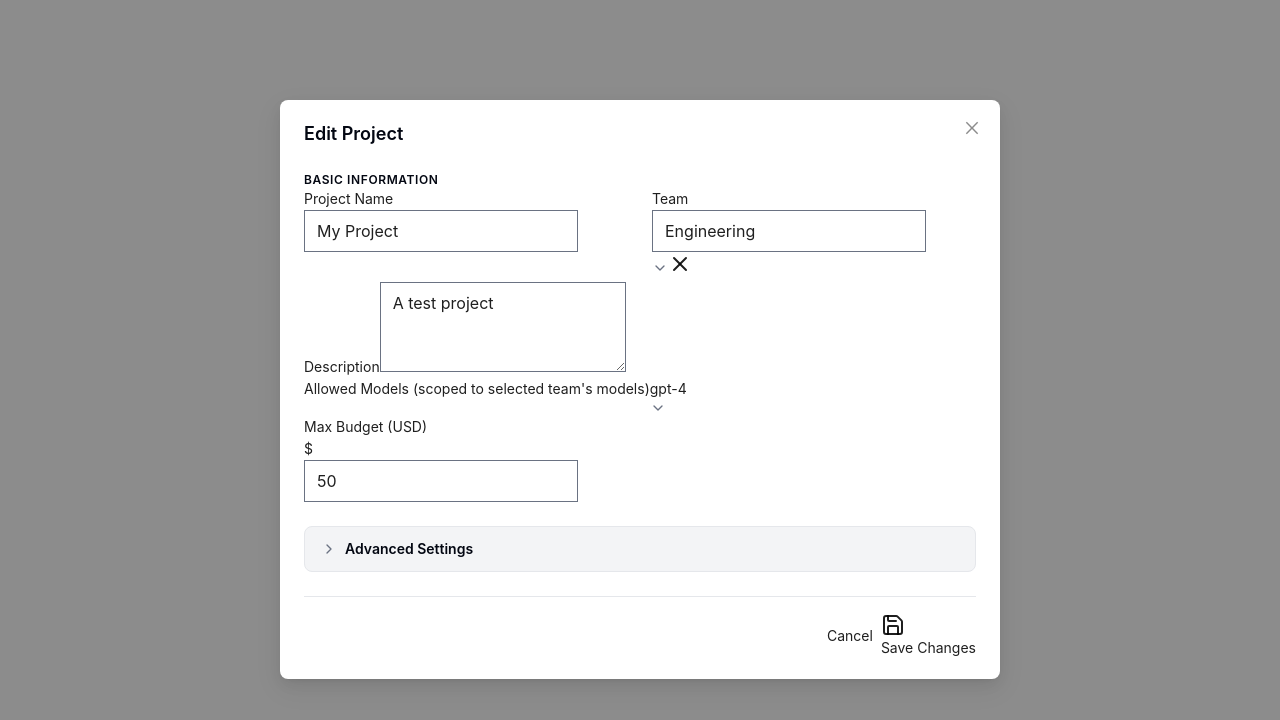
Test: EditProjectModal submit payload › blocks the save when the project name is cleared
Clear the field labelled "Project Name" at (441, 231), box [304,210,578,252]
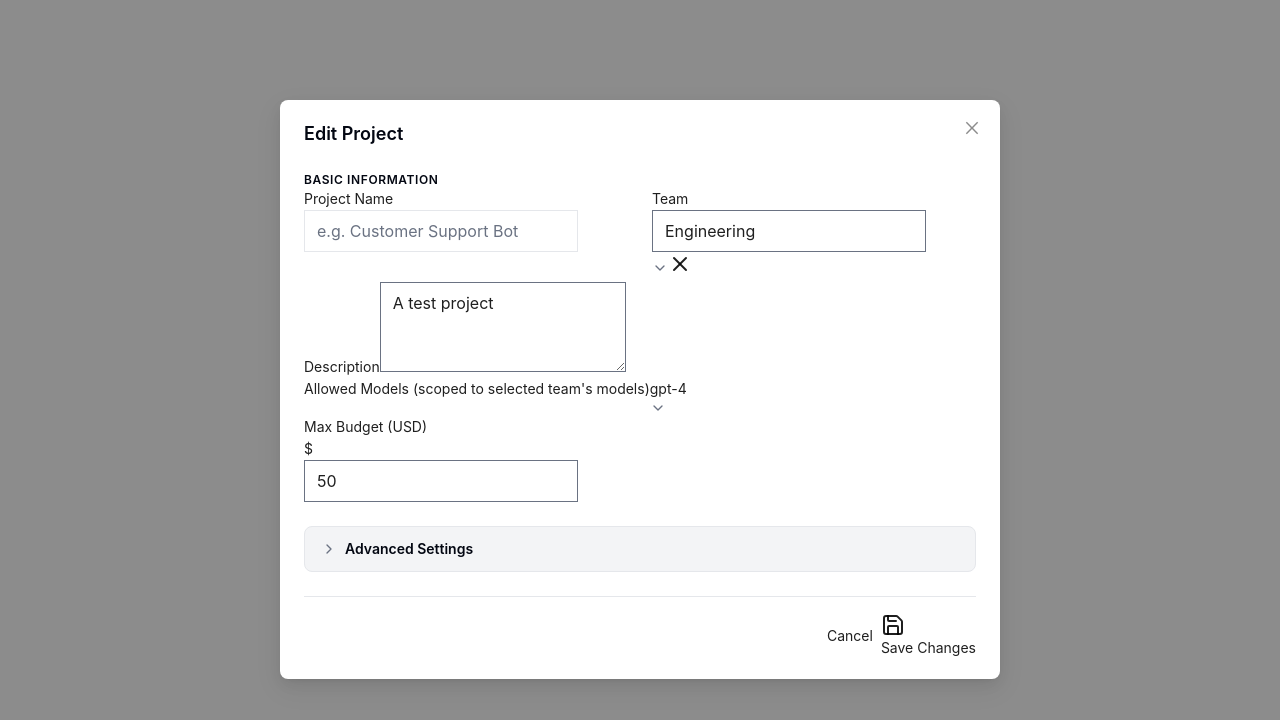
Click the button "Save Changes" at (928, 636), box [881,613,976,659]
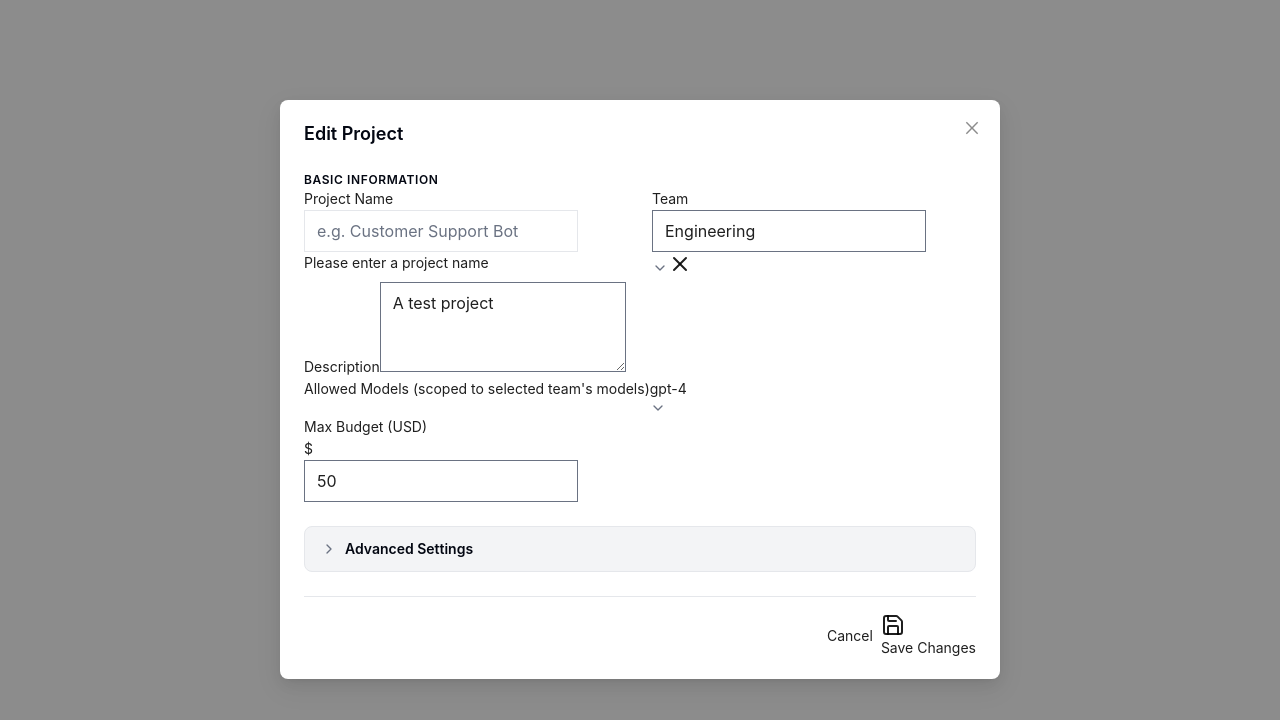
Result: the text "Please enter a project name" is shown at [304,254,489,271]
